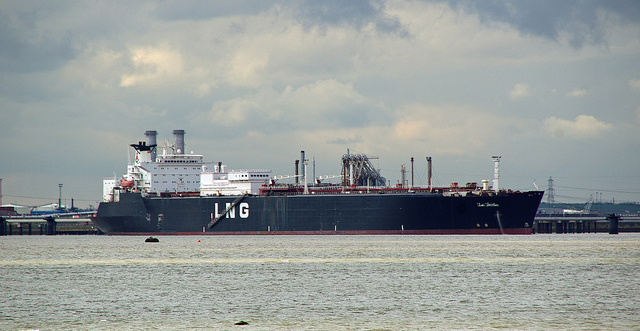LNG_ship: (89, 122, 550, 239)
